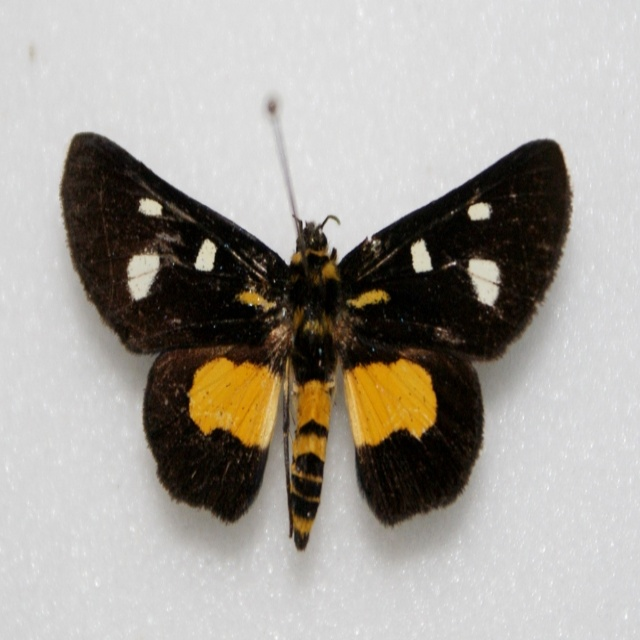Butterfly: (58, 74, 579, 561)
